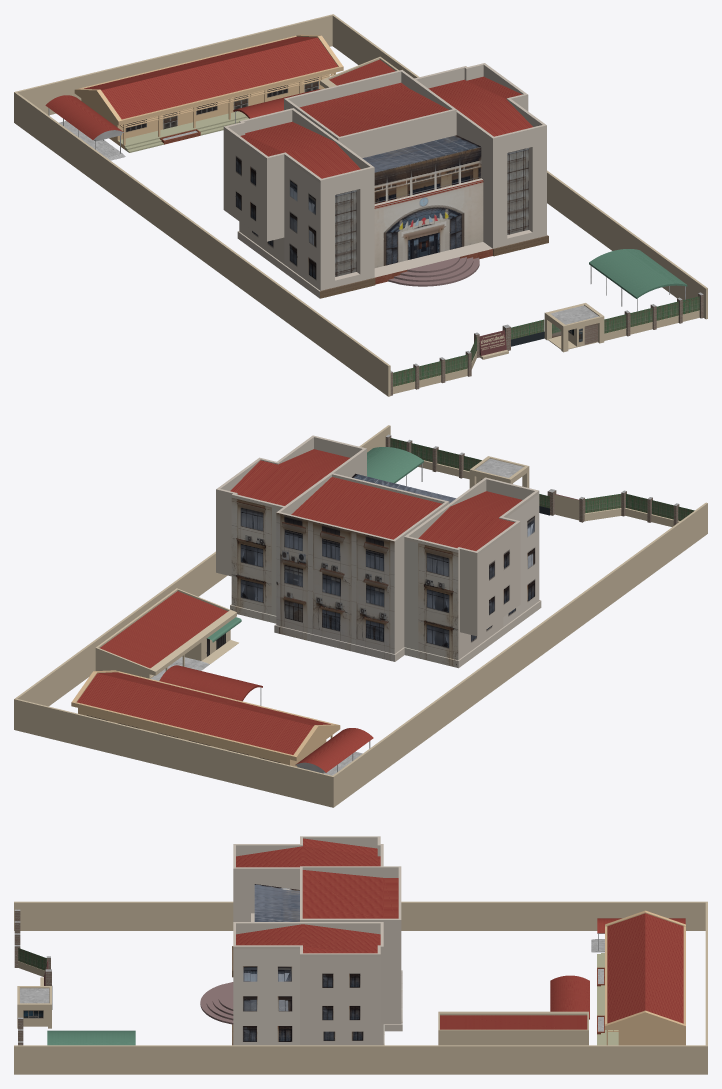
File: Sở Khoa học và Công nghệ Bình Phước.glb
3 views of the same model, one above another, from view 1: azimuth 30°, elevation 25°; view 2: azimuth 150°, elevation 25°; view 3: azimuth 270°, elevation 25° (orthographic). The views are drawn at different scales.
Visible parts, largest first — view 1: BPH068_2, BPH068.1, BPH068.3, BPH068.004; view 2: BPH068_2, BPH068.1, BPH068.3, BPH068.004; view 3: BPH068.1, BPH068_2, BPH068.3, BPH068.004.
Boxes of the visible parts, box(x1,y1,x2,y2) form: BPH068_2: box(223, 63, 548, 298); BPH068.1: box(14, 14, 707, 396); BPH068.3: box(45, 34, 398, 160); BPH068.004: box(589, 249, 687, 311); BPH068_2: box(216, 435, 541, 668); BPH068.1: box(14, 425, 707, 807); BPH068.3: box(71, 588, 373, 775); BPH068.004: box(367, 447, 423, 485); BPH068.1: box(14, 901, 707, 1074); BPH068_2: box(200, 836, 402, 1045); BPH068.3: box(438, 910, 685, 1045); BPH068.004: box(47, 1030, 135, 1045).
Bounding box in the file's own units: 36.99 × 13.26 × 75.08.
4 materials, 4 textured.
